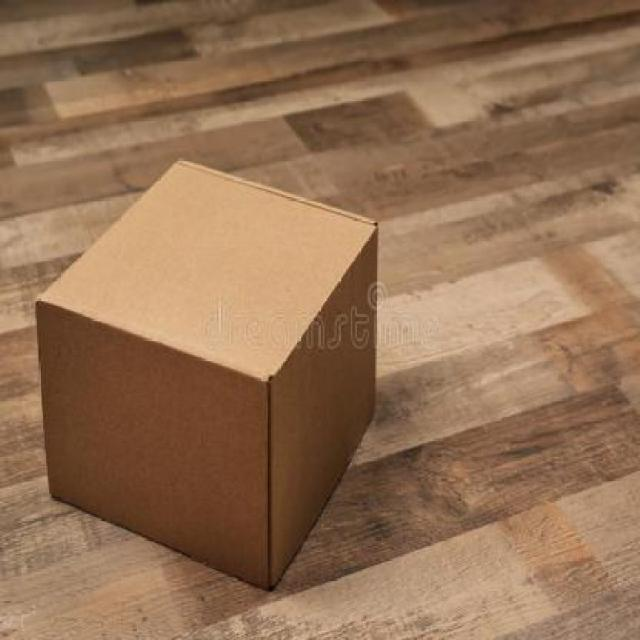box: (34, 159, 376, 589)
